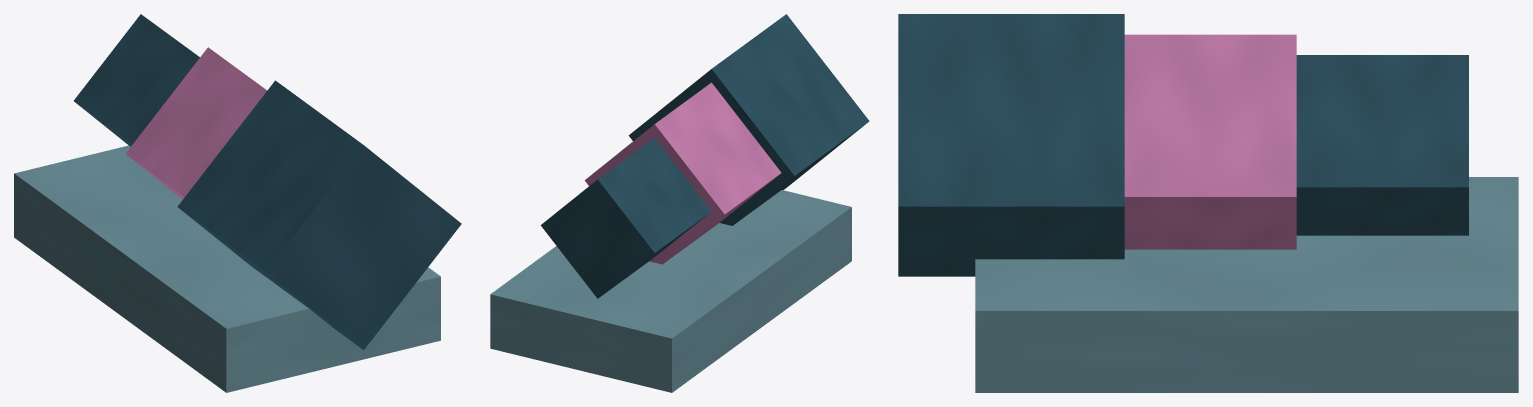
File: atlas100-s066-a05.lod2.glb
3 views of the same model, side by side, from view 1: azimuth 30°, elevation 25°; view 2: azimuth 150°, elevation 25°; view 3: azimuth 270°, elevation 25° (orthographic). The views are drawn at different scales.
Visible parts, largest first — view 1: atlas100-s066-a05:part-004, atlas100-s066-a05:part-002, atlas100-s066-a05:part-001, atlas100-s066-a05:part-000; view 2: atlas100-s066-a05:part-004, atlas100-s066-a05:part-002, atlas100-s066-a05:part-000, atlas100-s066-a05:part-001; view 3: atlas100-s066-a05:part-004, atlas100-s066-a05:part-002, atlas100-s066-a05:part-001, atlas100-s066-a05:part-000.
Part boxes in pixels (<box>): atlas100-s066-a05:part-004: <box>14,145,440,392</box>; atlas100-s066-a05:part-002: <box>177,80,461,349</box>; atlas100-s066-a05:part-001: <box>125,47,267,199</box>; atlas100-s066-a05:part-000: <box>74,14,199,146</box>; atlas100-s066-a05:part-004: <box>490,190,851,392</box>; atlas100-s066-a05:part-002: <box>628,14,869,225</box>; atlas100-s066-a05:part-000: <box>540,138,711,298</box>; atlas100-s066-a05:part-001: <box>585,82,781,264</box>; atlas100-s066-a05:part-004: <box>975,177,1518,392</box>; atlas100-s066-a05:part-002: <box>898,14,1124,276</box>; atlas100-s066-a05:part-001: <box>1124,34,1296,249</box>; atlas100-s066-a05:part-000: <box>1296,55,1468,235</box>.
Bounding box in the file's own units: 0.3822 × 0.415 × 0.748.
Materials: 3 (3 with a texture image).
